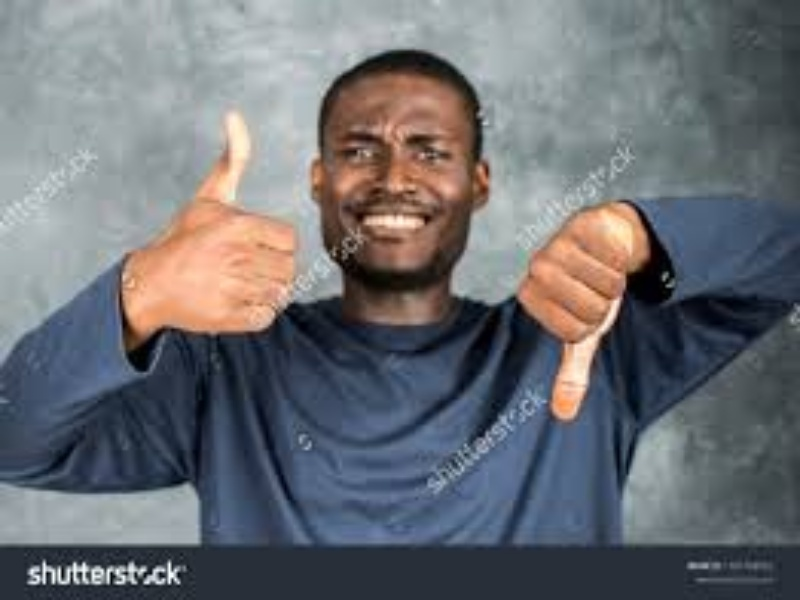smile: (329, 80, 459, 269)
thumbup: (164, 112, 302, 340)
